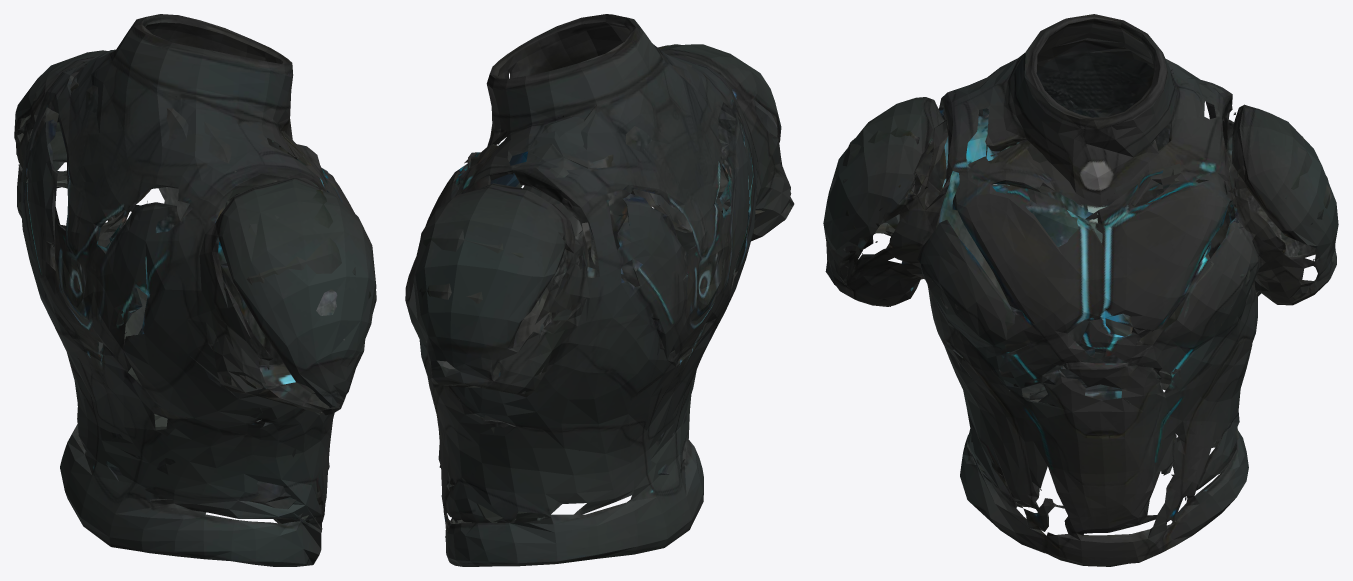
The model's file is vr body.glb.
3 renders of one model, left to right at view 1: azimuth 30°, elevation 25°; view 2: azimuth 150°, elevation 25°; view 3: azimuth 270°, elevation 25°, orthographic. The views are drawn at different scales.
Visible parts, largest first — view 1: tripo_node_c072ee9c-04a2-4847-82da-d9d3d4b092f3; view 2: tripo_node_c072ee9c-04a2-4847-82da-d9d3d4b092f3; view 3: tripo_node_c072ee9c-04a2-4847-82da-d9d3d4b092f3.
Boxes of the visible parts, x1=… form: tripo_node_c072ee9c-04a2-4847-82da-d9d3d4b092f3: x1=14, y1=14, x2=376, y2=566; tripo_node_c072ee9c-04a2-4847-82da-d9d3d4b092f3: x1=405, y1=14, x2=794, y2=566; tripo_node_c072ee9c-04a2-4847-82da-d9d3d4b092f3: x1=823, y1=14, x2=1338, y2=566.
Bounding box in the file's own units: 0.506 × 0.9924 × 0.952.
Materials: 1 (1 with a texture image).
